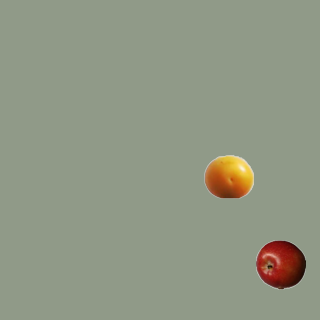Apple Braeburn: (255, 239, 305, 289)
Cherry Wax Yellow: (203, 151, 253, 201)
